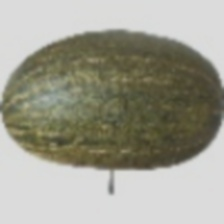honeydew: (40, 25, 182, 162)
